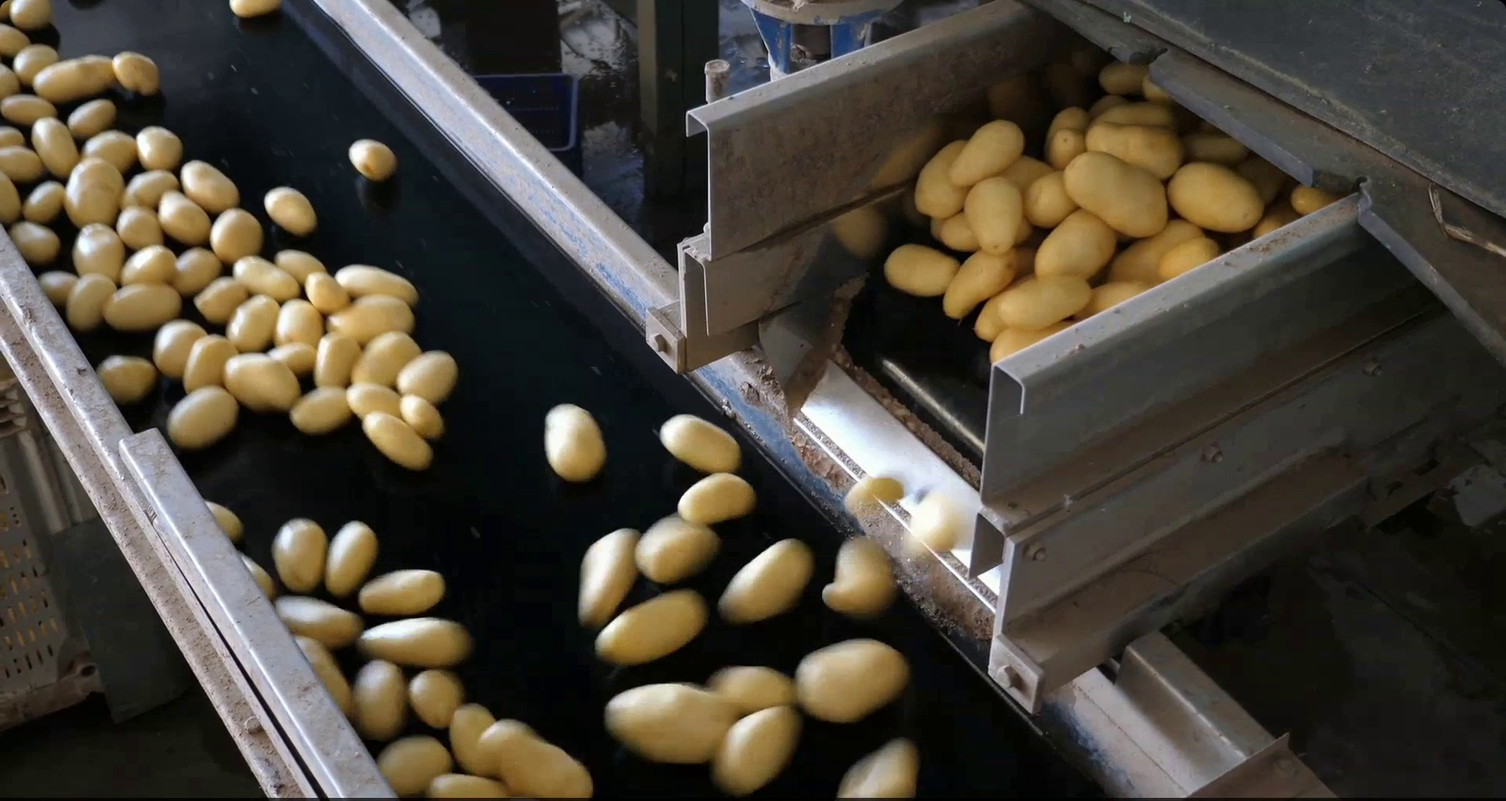potato: (593, 676, 734, 770), (788, 633, 920, 731), (587, 582, 712, 672), (712, 530, 819, 630), (1061, 147, 1173, 241), (704, 700, 809, 798), (563, 520, 655, 630), (622, 504, 729, 585), (813, 524, 900, 623), (1163, 158, 1267, 234), (824, 729, 933, 801), (1030, 203, 1122, 288), (498, 730, 599, 801), (1108, 214, 1201, 290), (934, 241, 1021, 322), (352, 616, 479, 670), (1085, 111, 1184, 180), (992, 267, 1095, 332), (699, 658, 806, 720), (898, 488, 975, 571), (538, 396, 607, 485), (655, 408, 746, 475), (292, 632, 357, 725), (943, 113, 1021, 190), (372, 729, 455, 801), (673, 467, 762, 534), (270, 587, 363, 651), (959, 172, 1027, 259), (909, 132, 973, 223), (875, 238, 965, 301), (353, 561, 451, 618), (986, 316, 1085, 372), (349, 326, 430, 394), (318, 516, 381, 602), (161, 384, 241, 451), (60, 155, 126, 235), (269, 509, 327, 600), (347, 658, 412, 739), (219, 350, 300, 415), (319, 288, 420, 340), (27, 52, 124, 104), (176, 328, 246, 400), (360, 408, 438, 471), (100, 278, 188, 331), (329, 258, 420, 309), (446, 698, 503, 778), (150, 314, 210, 389), (1017, 166, 1084, 232), (278, 382, 357, 437), (474, 716, 547, 775), (402, 665, 464, 734), (394, 345, 464, 404), (152, 184, 215, 248), (835, 467, 911, 520), (60, 269, 121, 334), (227, 249, 303, 300), (220, 288, 278, 351), (180, 154, 243, 212), (171, 241, 227, 304), (115, 166, 180, 220), (206, 204, 265, 263), (29, 112, 82, 177), (88, 352, 158, 400), (1077, 274, 1148, 320), (188, 271, 249, 324), (419, 769, 519, 801), (271, 292, 328, 348), (343, 132, 402, 186), (115, 242, 182, 288), (70, 223, 123, 281), (1151, 235, 1219, 280), (112, 200, 169, 253), (78, 125, 142, 172), (311, 331, 361, 391), (261, 183, 316, 237), (105, 48, 163, 99), (5, 217, 61, 267), (1086, 100, 1178, 130), (397, 391, 449, 444), (132, 120, 185, 172), (298, 267, 354, 316), (258, 338, 324, 379), (341, 379, 404, 420), (235, 545, 278, 603), (10, 38, 63, 85), (63, 95, 122, 136), (199, 491, 246, 542), (966, 286, 1008, 343), (18, 175, 65, 224), (936, 208, 982, 257), (271, 246, 333, 282), (1046, 124, 1089, 173), (1287, 177, 1338, 216), (37, 266, 80, 311), (1, 92, 62, 123), (1184, 128, 1243, 160), (5, 1, 62, 31), (2, 142, 46, 180), (1, 16, 34, 64), (1009, 153, 1053, 188), (1096, 57, 1137, 92), (1047, 100, 1087, 134), (222, 1, 293, 20), (1, 171, 23, 230), (1246, 211, 1282, 243), (1086, 92, 1126, 118), (2, 60, 24, 107), (1138, 71, 1171, 101), (1, 123, 29, 151)
